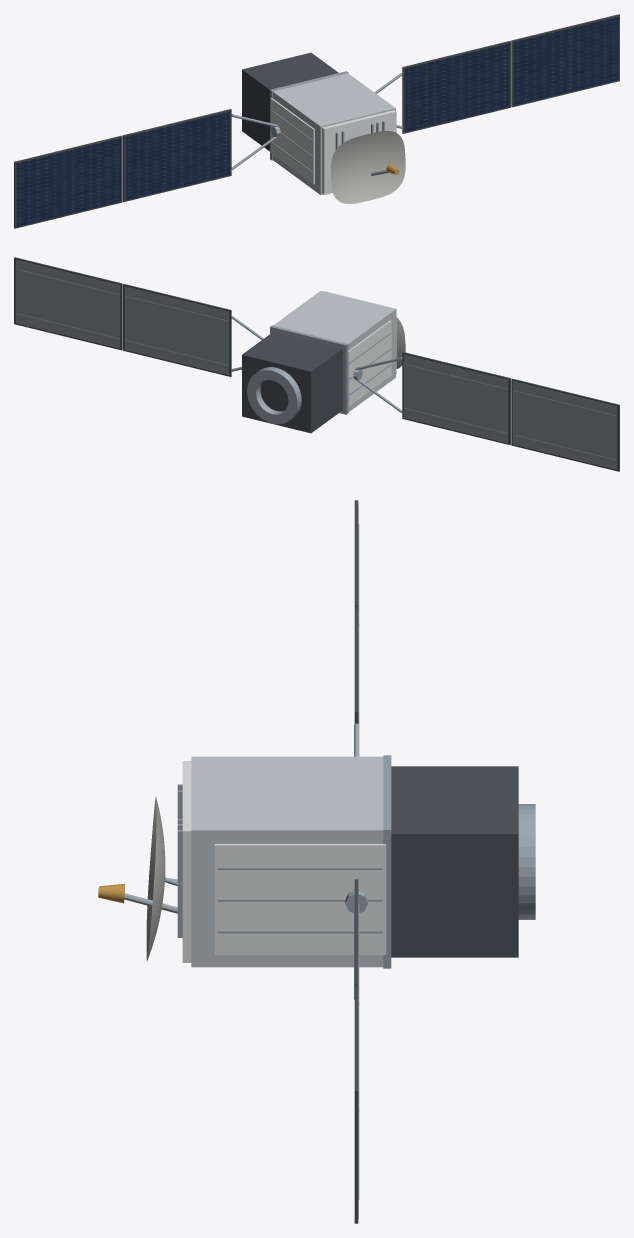
The model's file is ref-osc-star-1-25050.glb.
3 renders of one model, top to bottom at view 1: azimuth 30°, elevation 25°; view 2: azimuth 150°, elevation 25°; view 3: azimuth 270°, elevation 25°, orthographic. The views are drawn at different scales.
Parts seen in each view (by area): view 1: Solar cell panel (×4), Payload module, Deck-mounted reflector, Service module, Solar panel frame (×4), Radiator face, Earth-facing deck, Module interface; view 2: Rear array substrate (×4), Service module, Payload module, Solar panel frame (×4), Radiator face, Launch adapter ring, Module interface, Deck-mounted reflector; view 3: Service module, Payload module, Radiator face, Launch adapter ring, Earth-facing deck, Deck-mounted reflector, Module interface, Solar panel frame.
Part boxes in pixels (x1,y1,x2,y2): Solar cell panel (×4): (16, 16, 618, 226); Payload module: (272, 73, 395, 194); Deck-mounted reflector: (331, 131, 405, 203); Service module: (242, 52, 338, 151); Solar panel frame (×4): (14, 14, 619, 228); Radiator face: (270, 98, 314, 184); Earth-facing deck: (322, 110, 396, 194); Module interface: (270, 71, 348, 160); Rear array substrate (×4): (15, 259, 617, 469); Service module: (242, 331, 342, 433); Payload module: (273, 291, 395, 411); Solar panel frame (×4): (14, 257, 619, 471); Radiator face: (347, 320, 391, 406); Launch adapter ring: (247, 367, 301, 424); Module interface: (270, 325, 348, 414); Deck-mounted reflector: (396, 317, 405, 368); Service module: (391, 766, 518, 957); Payload module: (191, 756, 383, 967); Radiator face: (214, 844, 386, 954); Launch adapter ring: (518, 804, 535, 919); Earth-facing deck: (182, 761, 191, 962); Deck-mounted reflector: (146, 797, 165, 961); Module interface: (383, 755, 391, 968); Solar panel frame: (354, 985, 358, 1223).
Bounding box in the file's own units: 16.07 × 1.92 × 5.03.
Materials: 8 (1 with a texture image).
